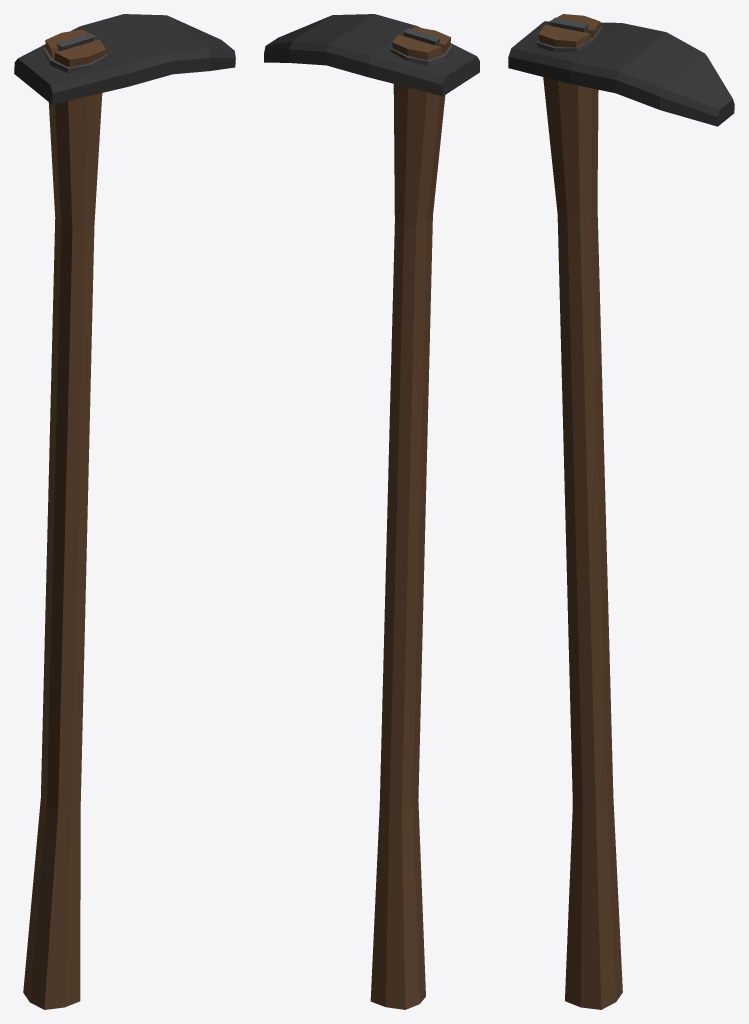
The model's file is hoe.glb.
3 renders of one model, left to right at view 1: azimuth 30°, elevation 25°; view 2: azimuth 150°, elevation 25°; view 3: azimuth 330°, elevation 25°, orthographic. The views are drawn at different scales.
Parts seen in each view (by area): view 1: hoe_Material_0; view 2: hoe_Material_0; view 3: hoe_Material_0.
Boxes of the visible parts, bbox=[...] form: hoe_Material_0: bbox=[14, 14, 235, 1009]; hoe_Material_0: bbox=[264, 14, 479, 1009]; hoe_Material_0: bbox=[508, 14, 734, 1009].
Bounding box in the file's own units: 0.3976 × 1.9 × 0.2226.
1 material, 1 textured.
